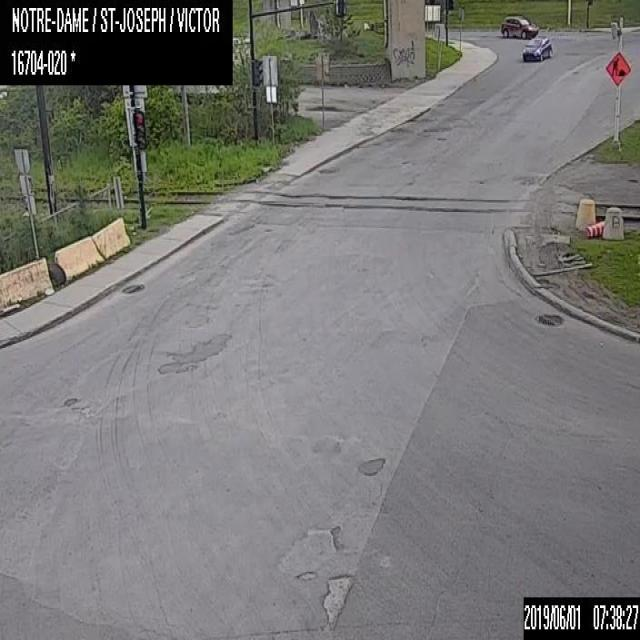construction: (604, 50, 630, 85), (585, 220, 604, 236)
vehicle: (500, 15, 538, 38), (522, 35, 552, 62)
